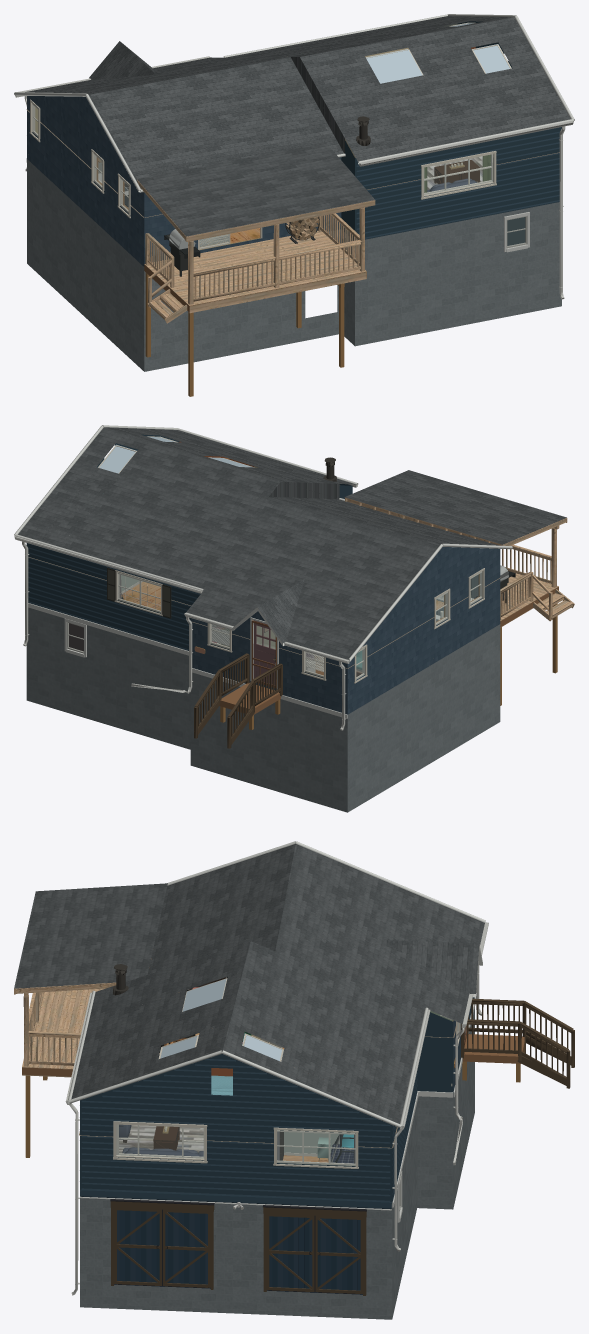
Rendered from cabin-cutaway.glb.
3 renders of one model, top to bottom at view 1: azimuth 30°, elevation 25°; view 2: azimuth 150°, elevation 25°; view 3: azimuth 270°, elevation 25°, orthographic. The views are drawn at different scales.
Parts seen in each view (by area): view 1: Roof, Main; view 2: Roof, Main; view 3: Roof, Main, Loft.
Boxes of the visible parts, x1=… form: Roof: x1=14, y1=14, x2=574, y2=299; Main: x1=26, y1=108, x2=563, y2=396; Roof: x1=14, y1=425, x2=567, y2=730; Main: x1=26, y1=528, x2=574, y2=812; Roof: x1=14, y1=841, x2=488, y2=1295; Main: x1=22, y1=976, x2=574, y2=1319; Loft: x1=164, y1=1036, x2=232, y2=1095.
Bounding box in the file's own units: 14.38 × 7.44 × 14.17.
Materials: 21 (19 with a texture image).
